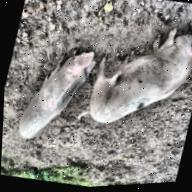boar: (75, 12, 192, 142), (16, 39, 100, 150)
